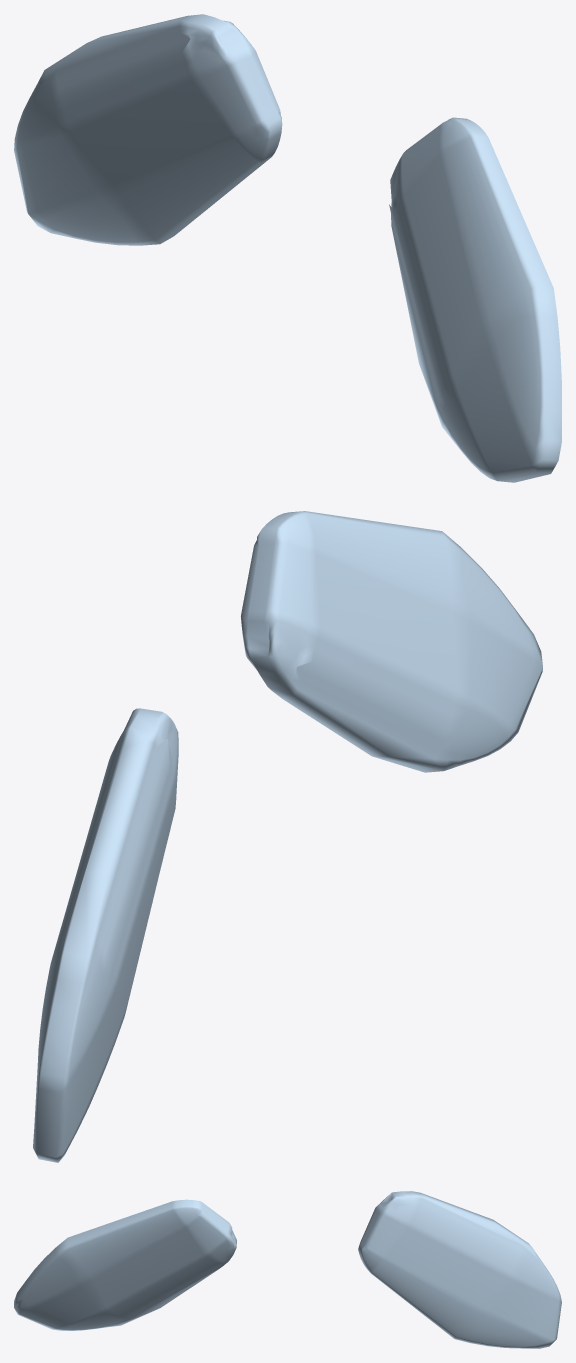
The model's file is navyala2.obj.
The picture shows the model from 3 angles, top to bottom: view 1: azimuth 30°, elevation 25°; view 2: azimuth 150°, elevation 25°; view 3: azimuth 270°, elevation 25°; orthographic projection. The views are drawn at different scales.
Parts seen in each view (by area): view 1: pasted__pasted__pasted__pCube1 pasted__pasted__group1 pasted__gr, pasted__pasted__pCube1 pasted__group1 group2; view 2: pasted__pasted__pCube1 pasted__group1 group2, pasted__pasted__pasted__pCube1 pasted__pasted__group1 pasted__gr; view 3: pasted__pasted__pasted__pCube1 pasted__pasted__group1 pasted__gr, pasted__pasted__pCube1 pasted__group1 group2.
Part boxes in pixels (x1,y1,x2,y2): pasted__pasted__pasted__pCube1 pasted__pasted__group1 pasted__gr: (14, 14, 282, 245); pasted__pasted__pCube1 pasted__group1 group2: (389, 117, 561, 482); pasted__pasted__pCube1 pasted__group1 group2: (240, 511, 542, 772); pasted__pasted__pasted__pCube1 pasted__pasted__group1 pasted__gr: (33, 708, 178, 1162); pasted__pasted__pasted__pCube1 pasted__pasted__group1 pasted__gr: (358, 1191, 561, 1348); pasted__pasted__pCube1 pasted__group1 group2: (14, 1199, 236, 1330).
Bounding box in the file's own units: 0.5388 × 1.07 × 3.02.
2 materials, 2 textured.
